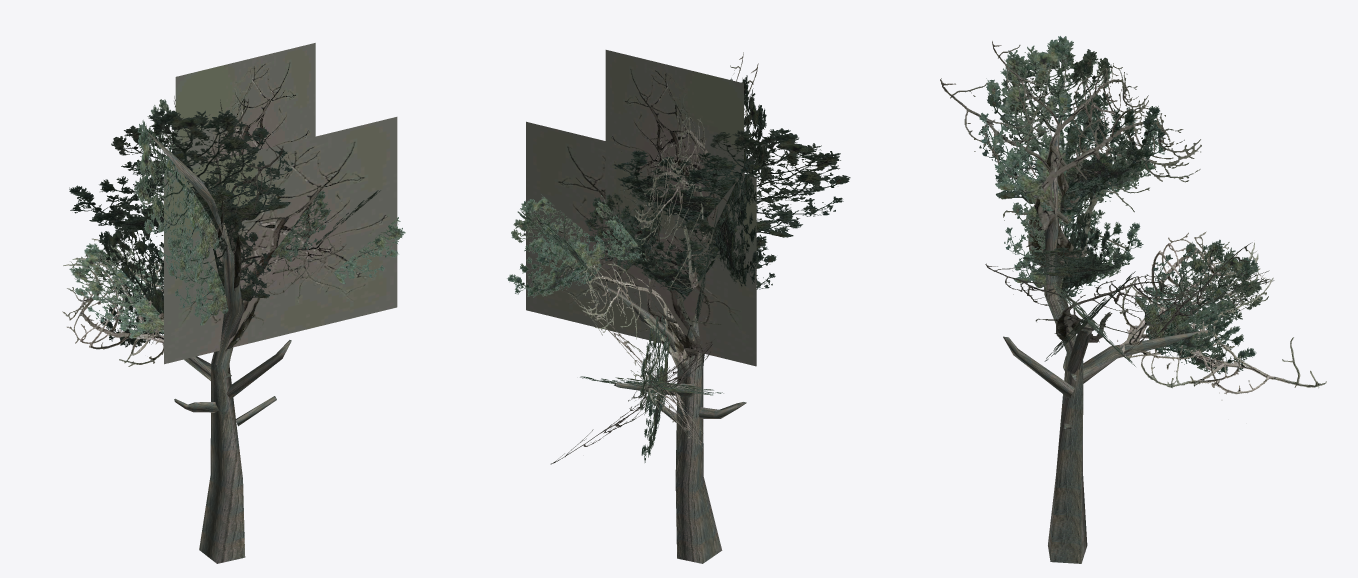
Rendered from ever_torreypinetree_a2_l1.fbx.
3 views of the same model, side by side, from view 1: azimuth 30°, elevation 25°; view 2: azimuth 150°, elevation 25°; view 3: azimuth 270°, elevation 25° (orthographic). The views are drawn at different scales.
Parts seen in each view (by area): view 1: mesh_node; view 2: mesh_node; view 3: mesh_node.
Part boxes in pixels (left/top/right/bottom): mesh_node: left=62, top=43, right=405, bottom=563; mesh_node: left=507, top=50, right=850, bottom=563; mesh_node: left=940, top=36, right=1326, bottom=563.
Bounding box in the file's own units: 3.95 × 5.41 × 3.73.
